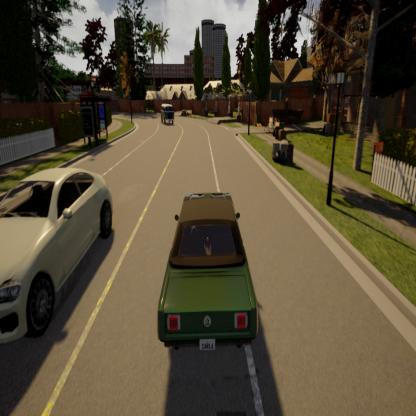Cars: (3, 132, 114, 393), (139, 177, 268, 373), (151, 96, 185, 136)
